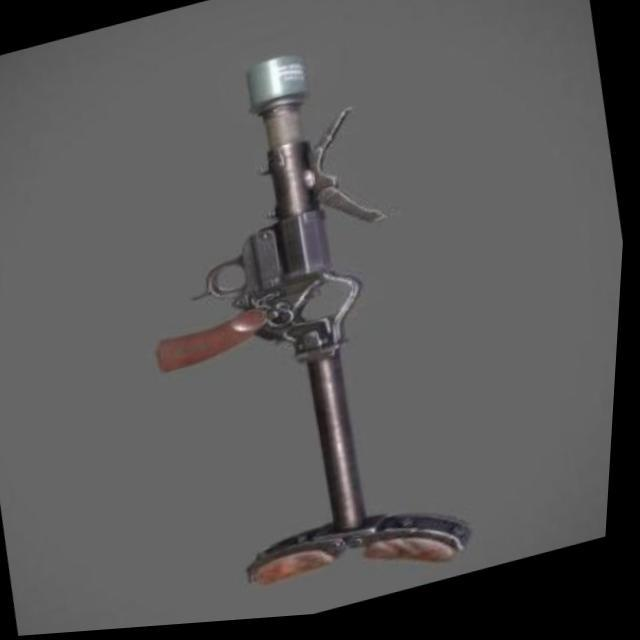weapon: (96, 20, 508, 632)
